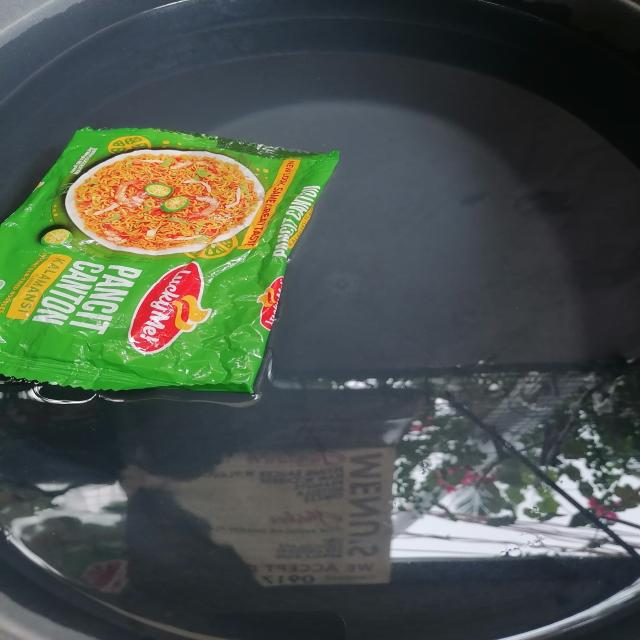Plastic Wrapper: (0, 100, 373, 409)
